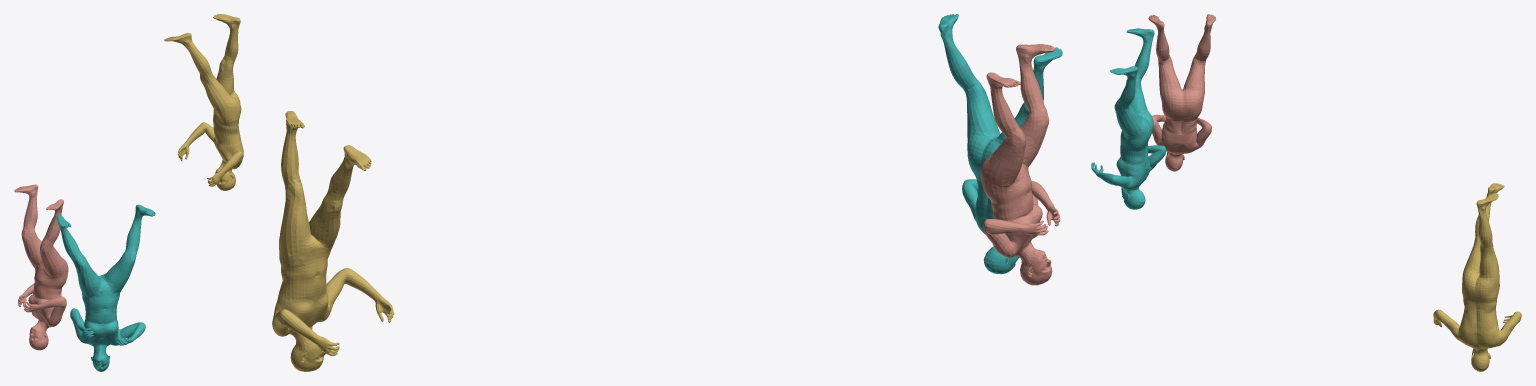
The model's file is all_people_native_world.glb.
3 views of the same model, side by side, from view 1: azimuth 30°, elevation 25°; view 2: azimuth 150°, elevation 25°; view 3: azimuth 270°, elevation 25° (orthographic). The views are drawn at different scales.
Visible parts, largest first — view 1: persistent_id_1_slot_1, persistent_id_3_slot_0, persistent_id_0_slot_2; view 2: persistent_id_3_slot_0, persistent_id_0_slot_2, persistent_id_1_slot_1; view 3: persistent_id_3_slot_0, persistent_id_0_slot_2, persistent_id_1_slot_1.
Boxes of the visible parts, left/top/right/bottom form: persistent_id_1_slot_1: left=56, top=204, right=155, bottom=371; persistent_id_3_slot_0: left=164, top=14, right=243, bottom=190; persistent_id_0_slot_2: left=14, top=184, right=68, bottom=350; persistent_id_3_slot_0: left=272, top=111, right=394, bottom=371; persistent_id_0_slot_2: left=980, top=44, right=1060, bottom=285; persistent_id_1_slot_1: left=938, top=14, right=1062, bottom=274; persistent_id_3_slot_0: left=1433, top=183, right=1521, bottom=371; persistent_id_0_slot_2: left=1148, top=14, right=1215, bottom=171; persistent_id_1_slot_1: left=1091, top=28, right=1166, bottom=209.
Bounding box in the file's own units: 3.91 × 1.85 × 3.86.
